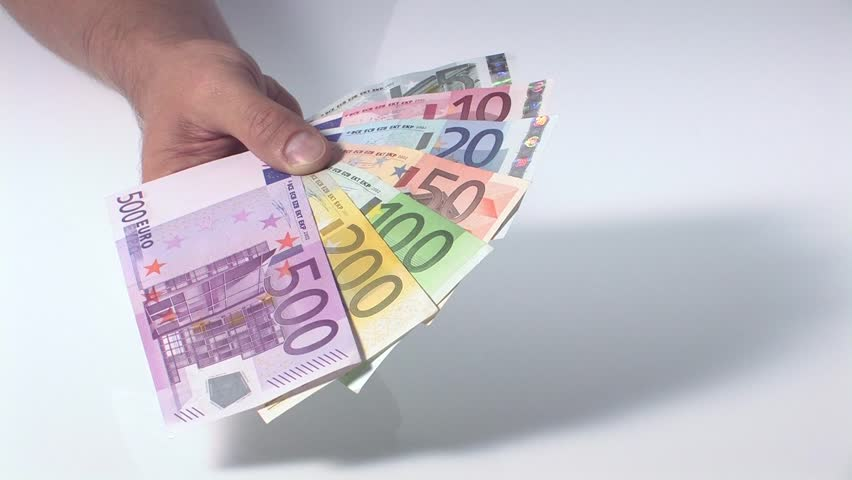billete: (103, 44, 558, 439)
